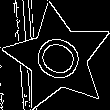O_SE: (25, 27, 90, 88)
